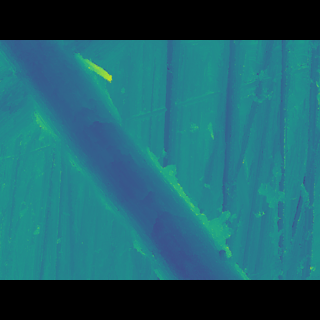Loch: (0, 69, 253, 250)
